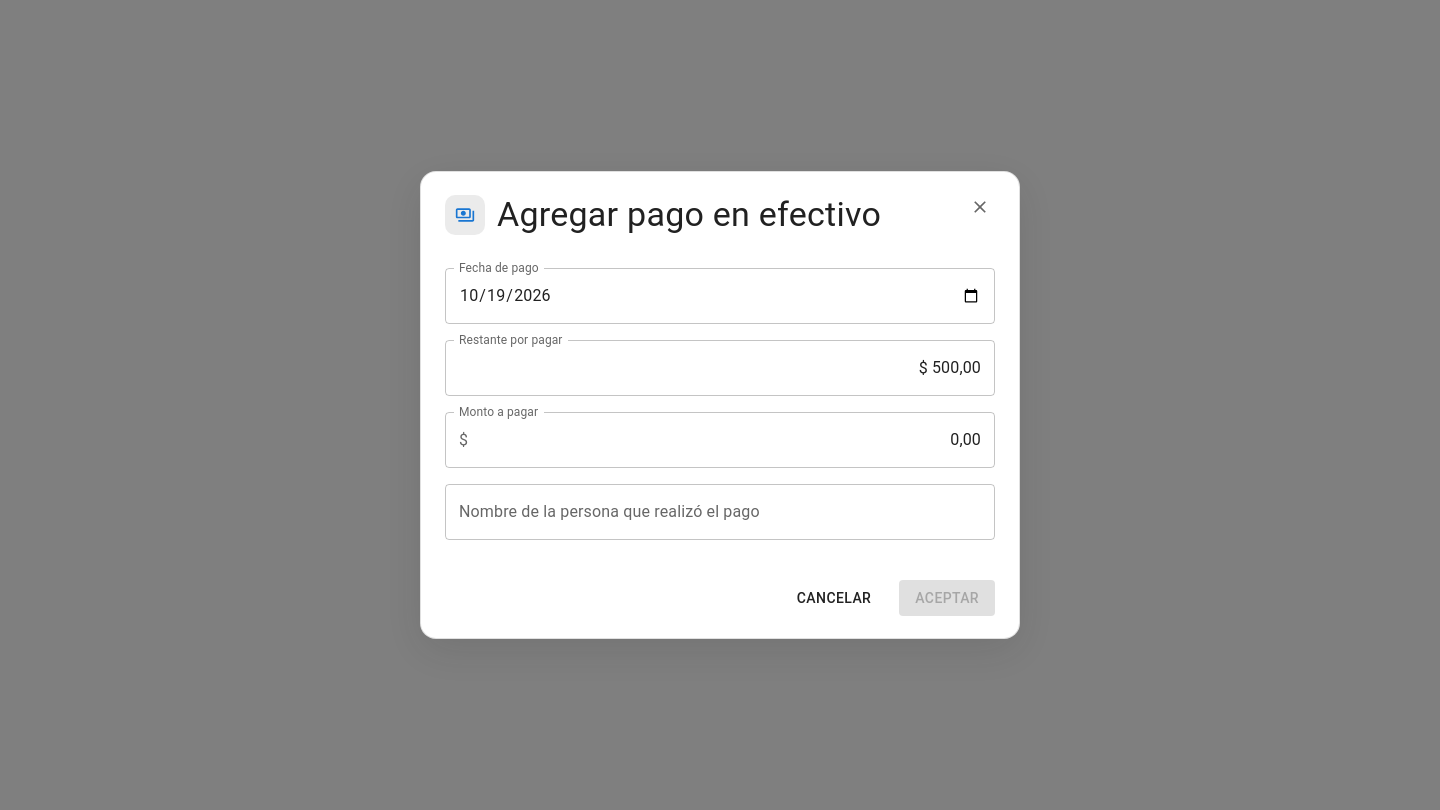
Test: CashPaymentDialog › given open dialog, when rendered, then the amount shows the symbol-less shared amount when not focused and the plain number when focused, with the adornment car
Expected: the element showing "$" is shown, [459,428,468,452]
Step 1. Click the field labelled "Monto a pagar" → {"x": 736, "y": 440}, box [476,412,995,468]
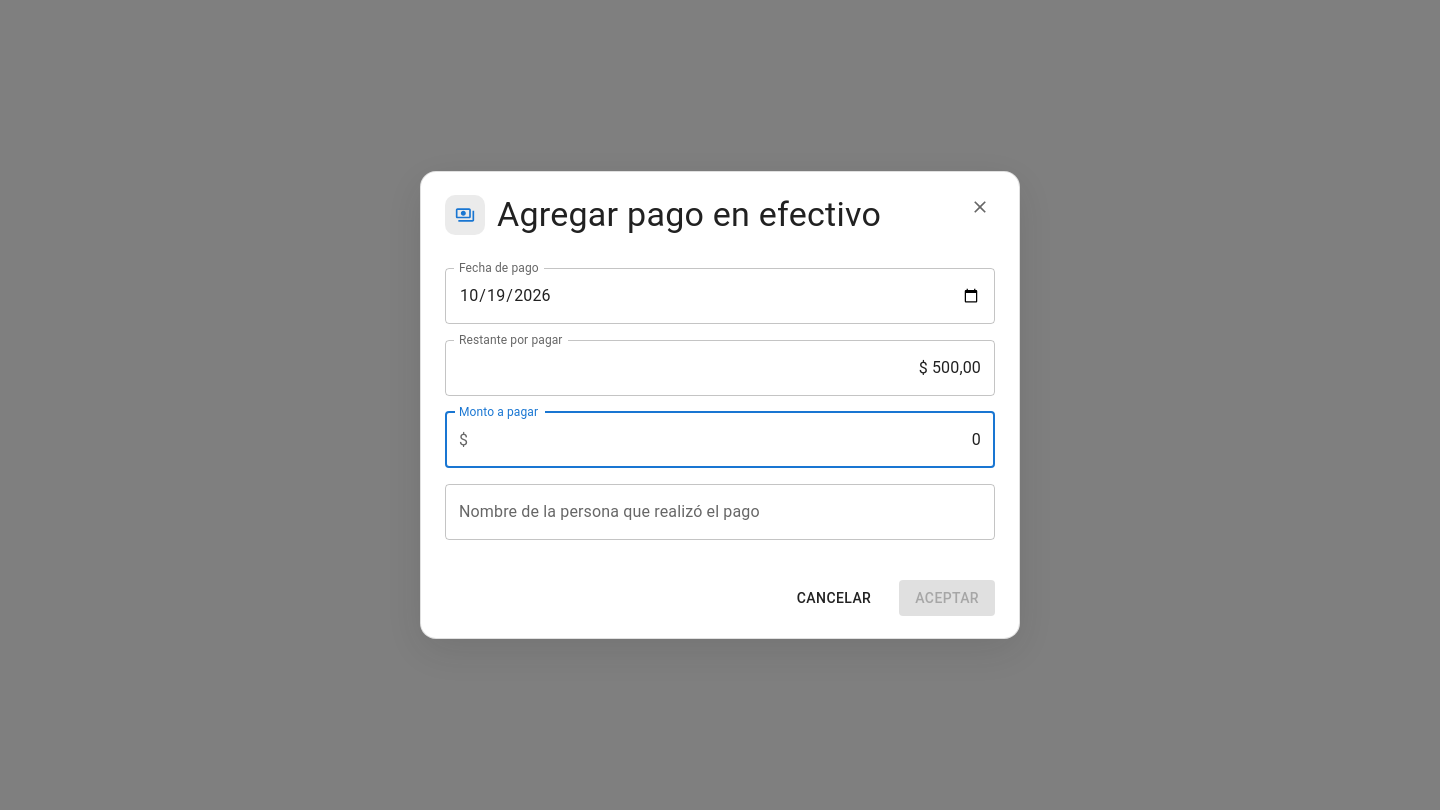
Expected: the field labelled "Monto a pagar" holds "0", [476,412,995,468]
